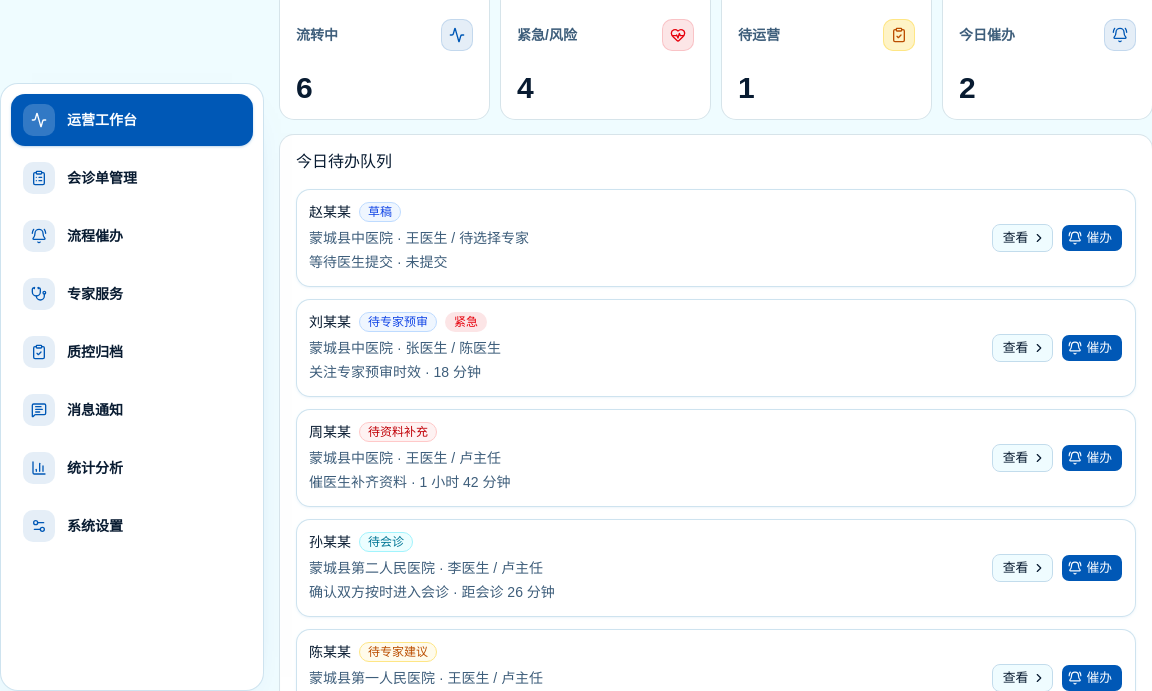
AdminView navigation › creates a new expert and generates an invite code
The width and height of the screenshot is (1152, 691).
Click the button "专家服务" at (132, 294), box [11,268,253,320]
(page scrolled)
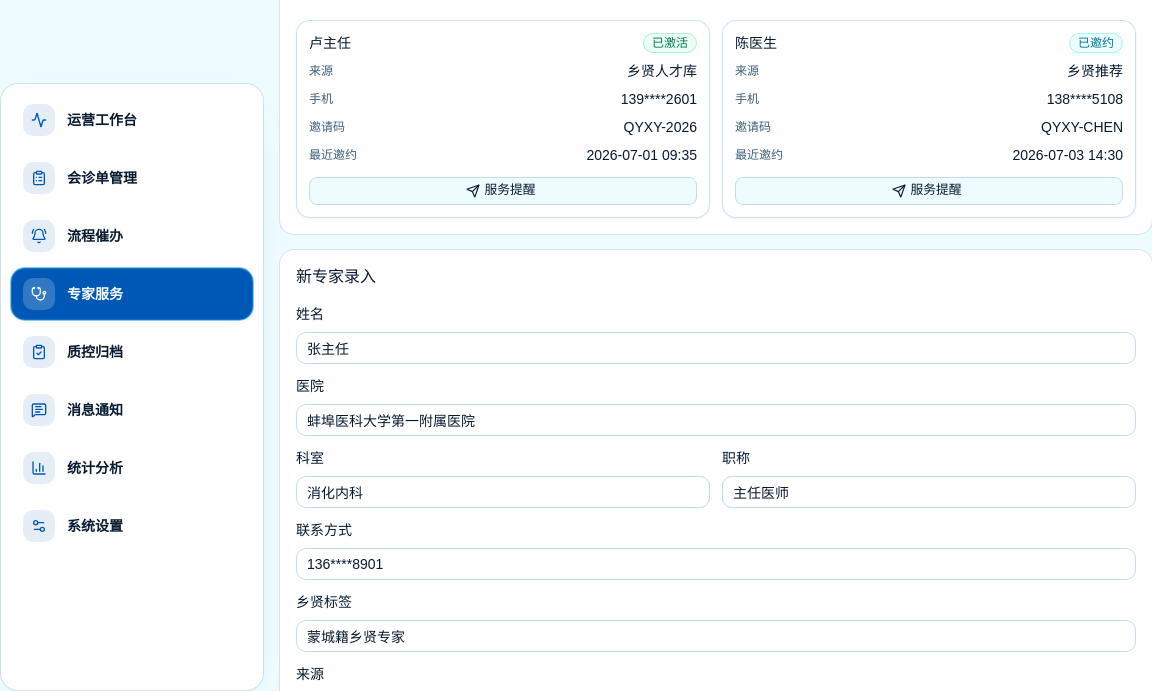
Expected: the text "新专家录入" is shown, [296,268,376,284]
Replace the text in the field labelled "姓名" with "王主任" at (716, 348), box [296,332,1136,364]
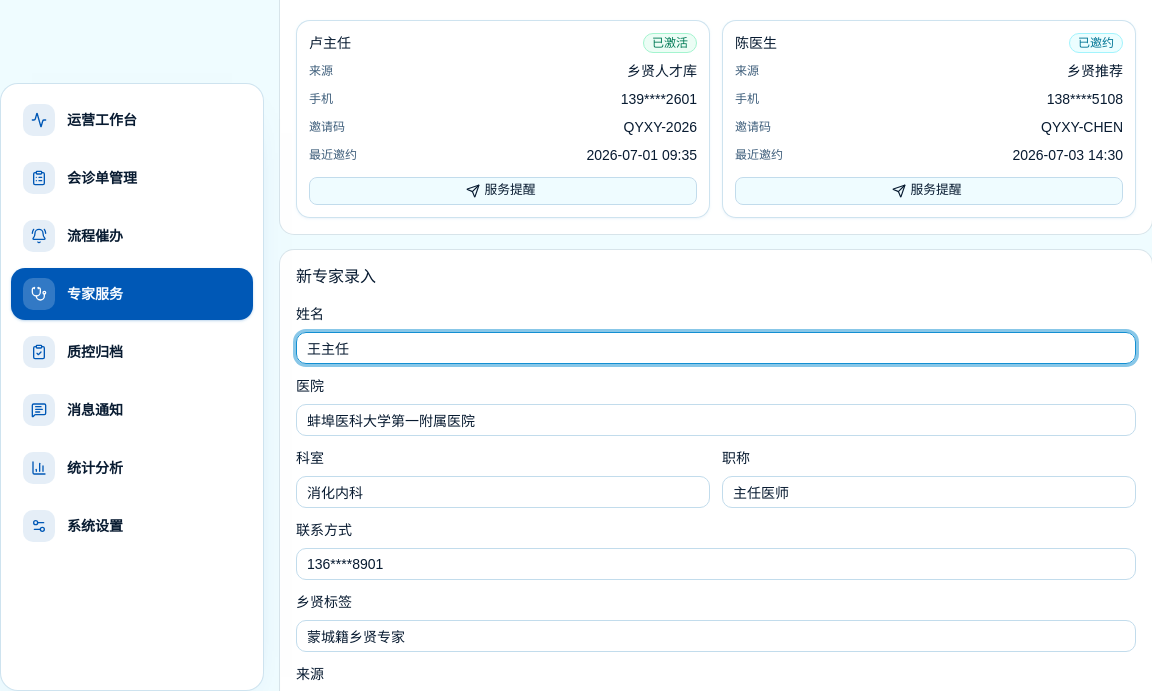
Replace the text in the field labelled "联系方式" with "137****8108" at (716, 564), box [296,548,1136,580]
(page scrolled)
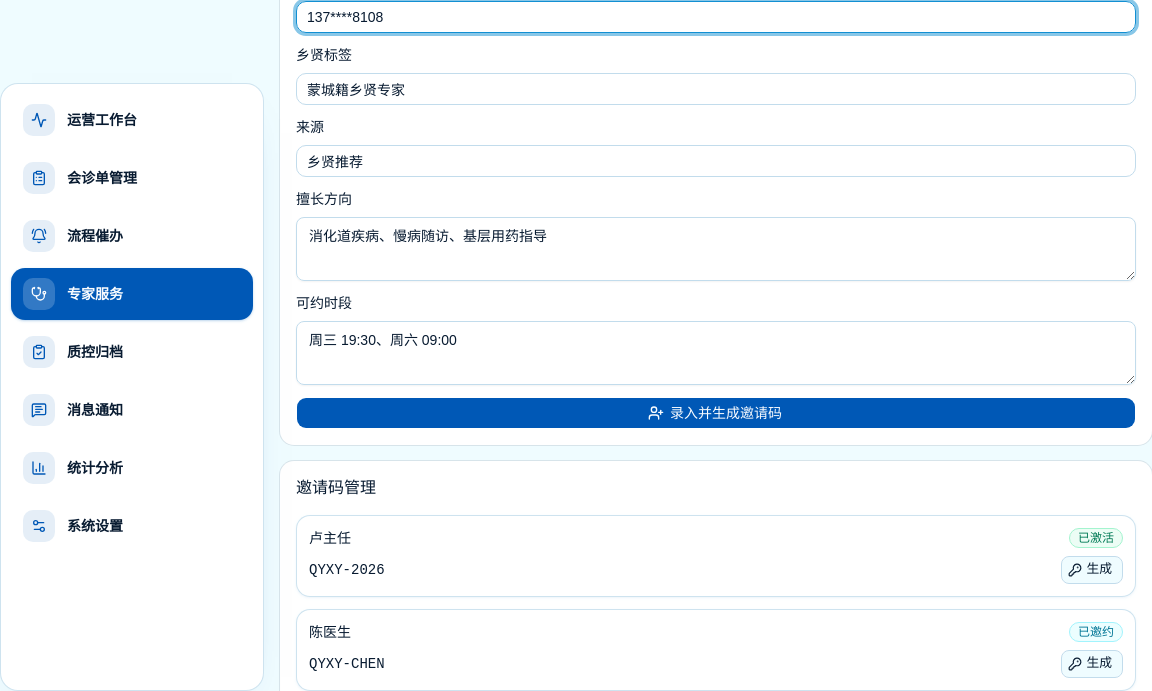
Click the button "录入并生成邀请码" at (716, 412), box [296,396,1136,428]
(page scrolled)
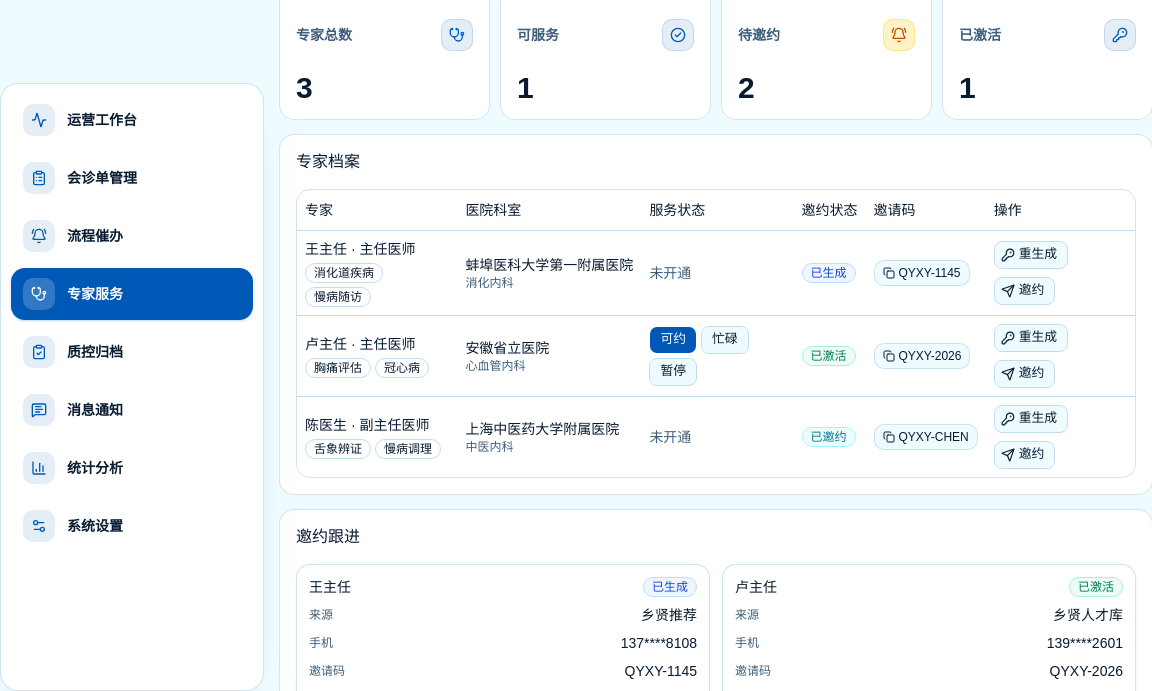
Expected: the text "王主任 · 主任医师" is shown, [297,230,1135,315]
Expected: the icon "已生成" in the row of "消化道疾病" is shown, [810,266,846,280]
Expected: the button "QYXY-1145" is shown, [874,260,970,286]
